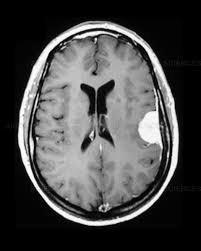Tumour-Meningioma: (128, 106, 169, 161)
